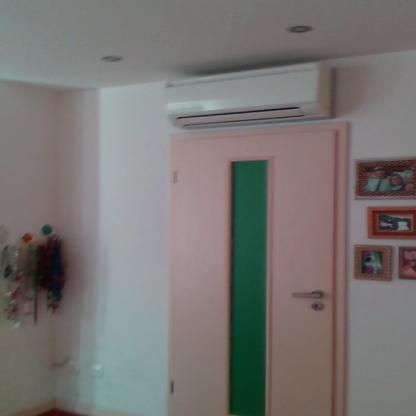door: (170, 140, 336, 415)
hinged: (167, 378, 176, 394), (172, 166, 179, 184)
lever: (288, 292, 326, 299)
